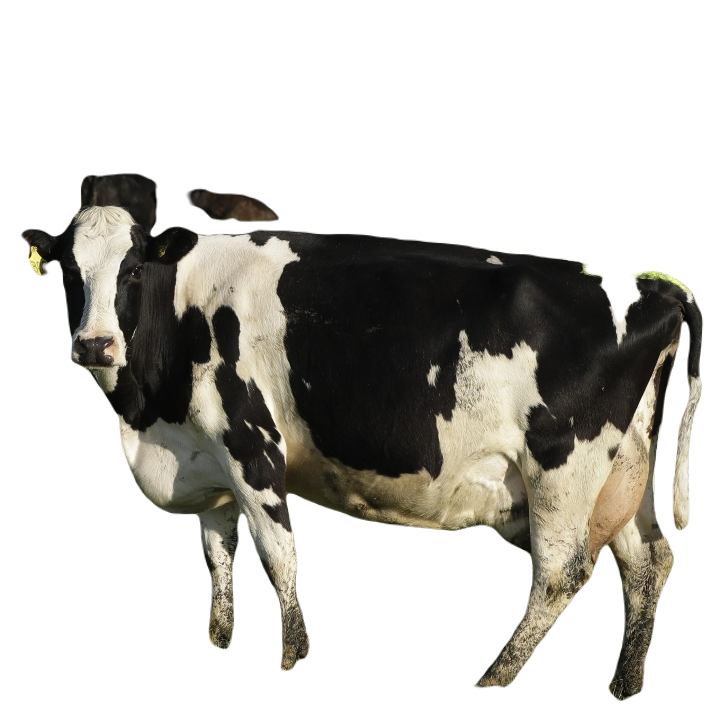Cow: (18, 208, 704, 698)
